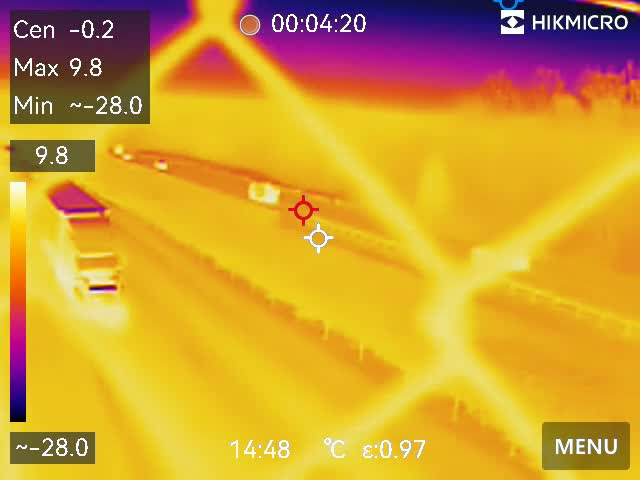heavyTruck: (42, 175, 128, 302)
vehicle: (243, 180, 291, 209), (152, 157, 171, 169)
